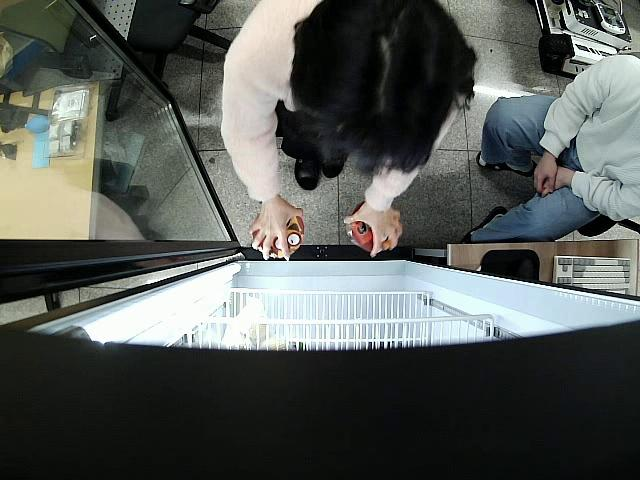00_hand: (249, 202, 304, 263), (344, 206, 403, 257)
05_nuguri_L: (253, 211, 303, 258), (351, 201, 396, 251)
